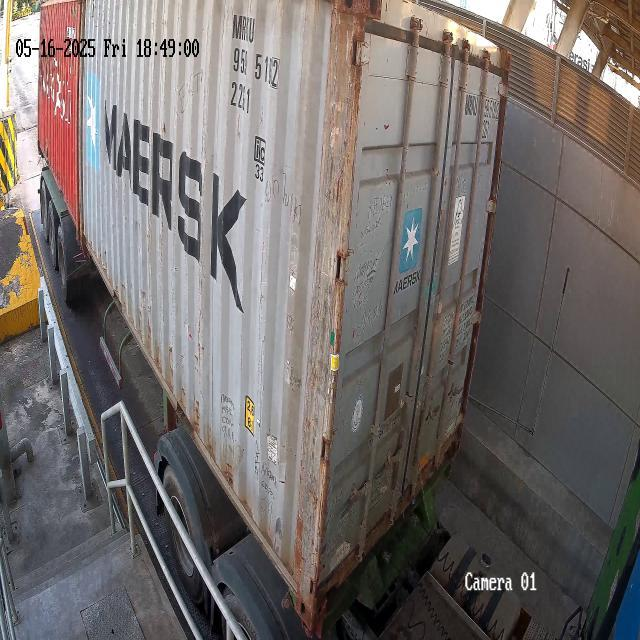ISO: (230, 82, 254, 120)
container_number: (228, 8, 288, 92)
